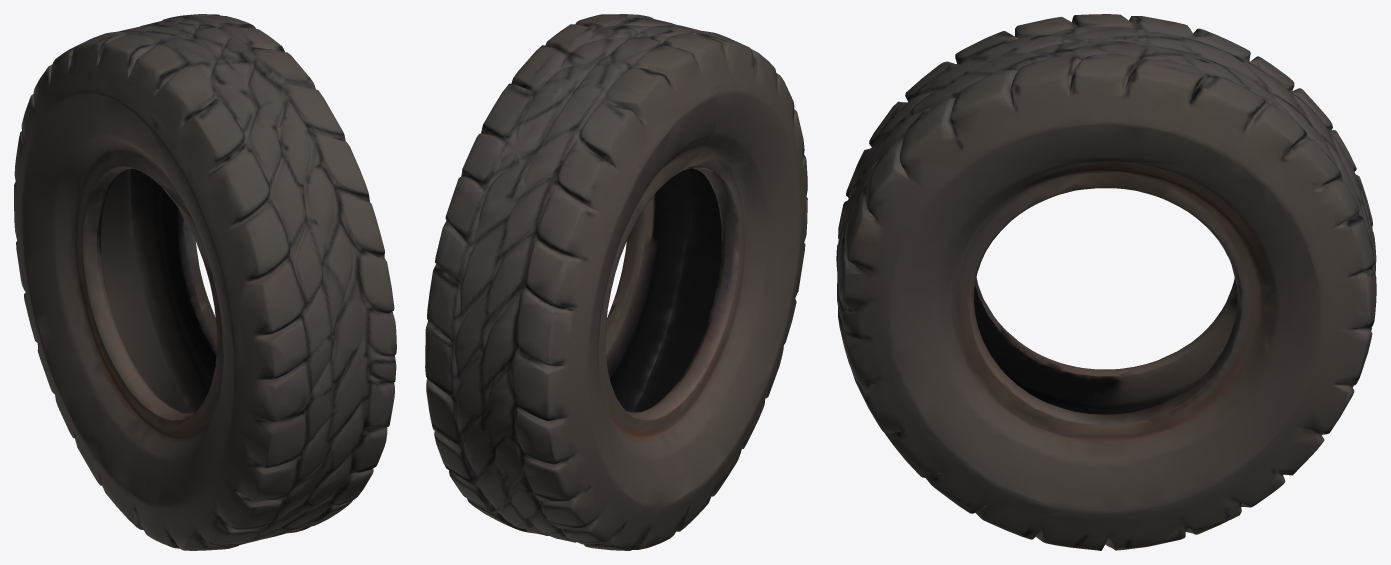
Rendered from tire.fbx.
3 views of the same model, side by side, from view 1: azimuth 30°, elevation 25°; view 2: azimuth 150°, elevation 25°; view 3: azimuth 270°, elevation 25° (orthographic).
Visible parts, largest first — view 1: tire; view 2: tire; view 3: tire.
Part boxes in pixels (x1,y1,x2,y2): tire: [14, 14, 396, 550]; tire: [425, 14, 807, 550]; tire: [836, 14, 1376, 550].
Size of the model in its own units: 8.44 by 25.08 by 25.21.
Materials: 1 (1 with a texture image).
